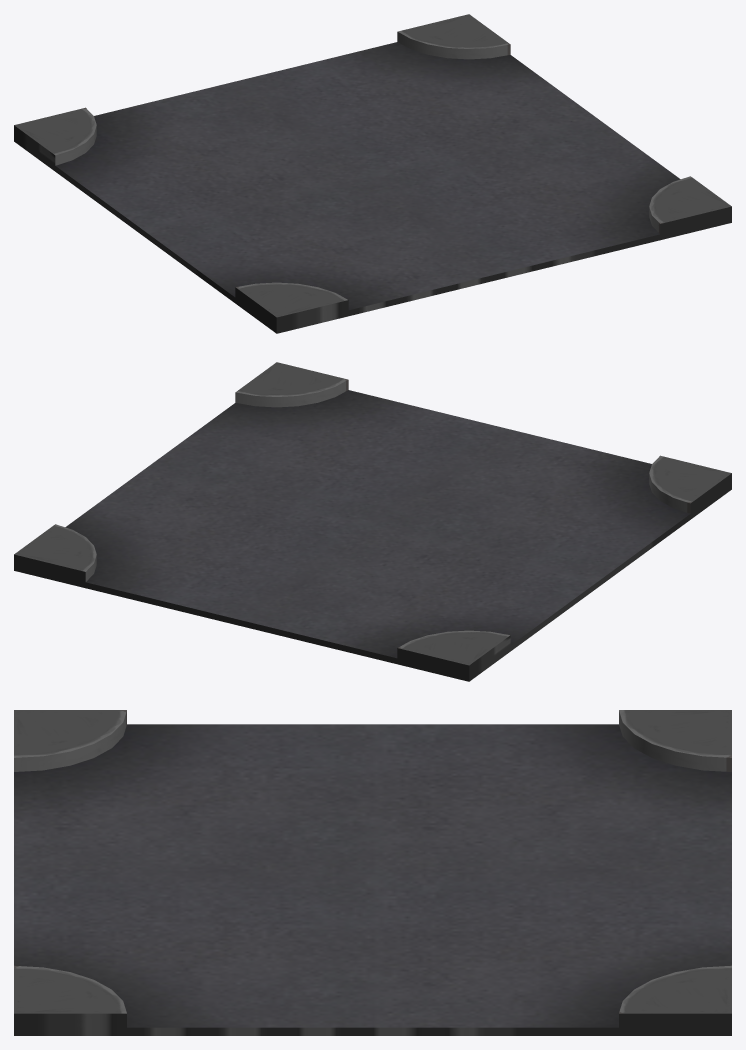
Rendered from street-4.FBX.
3 renders of one model, top to bottom at view 1: azimuth 30°, elevation 25°; view 2: azimuth 150°, elevation 25°; view 3: azimuth 270°, elevation 25°, orthographic. The views are drawn at different scales.
Parts seen in each view (by area): view 1: street-4; view 2: street-4; view 3: street-4.
Part boxes in pixels (x1,y1,x2,y2): street-4: (14,14,731,333); street-4: (14,362,731,681); street-4: (14,710,731,1035).
Size of the model in its own units: 3494 by 120 by 3494.
